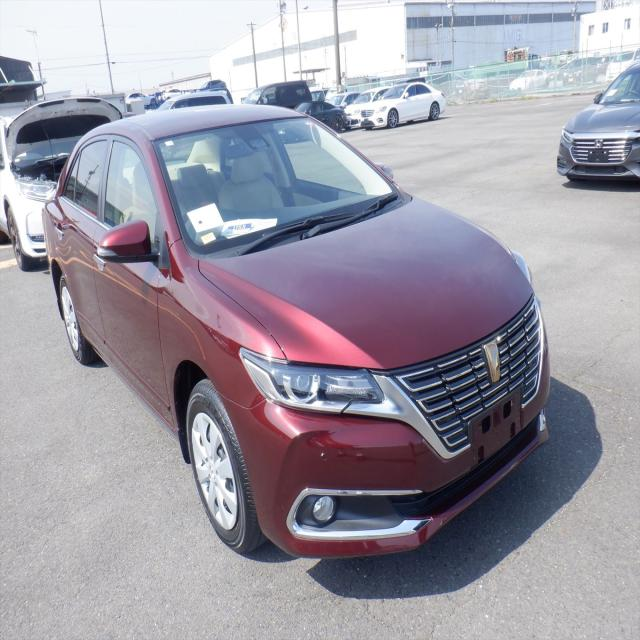maroon: (48, 101, 558, 564)
white: (362, 82, 448, 127)
